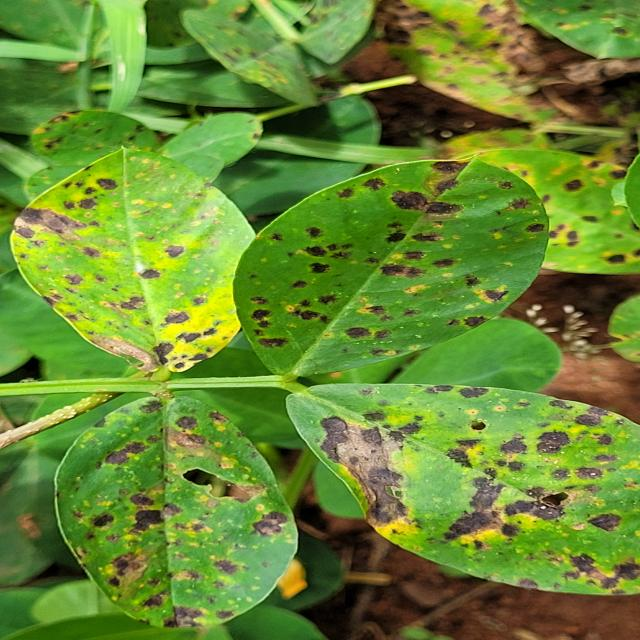Ground nut_tikka leaf spot: (274, 381, 640, 598), (233, 150, 558, 394), (0, 148, 280, 378), (38, 391, 298, 634)
